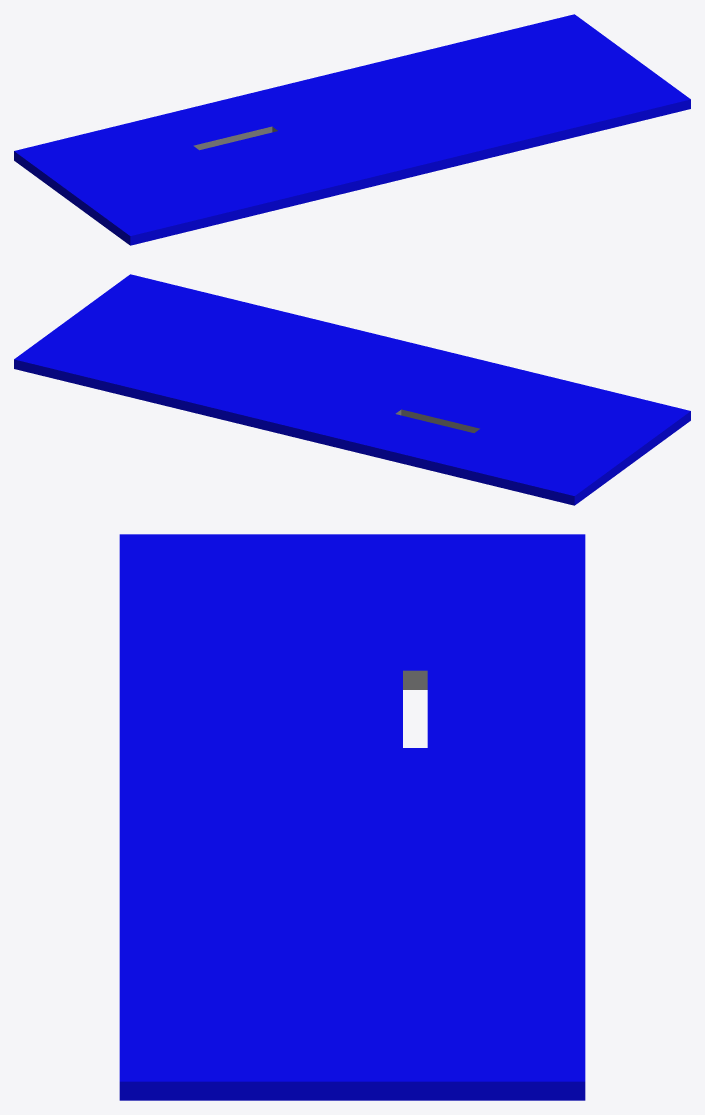
File: Roof02.fbx
The picture shows the model from 3 angles, top to bottom: view 1: azimuth 30°, elevation 25°; view 2: azimuth 150°, elevation 25°; view 3: azimuth 270°, elevation 25°; orthographic projection. The views are drawn at different scales.
Visible parts, largest first — view 1: Roof02; view 2: Roof02; view 3: Roof02.
Boxes of the visible parts, <box> form: Roof02: <box>14,14,690,245</box>; Roof02: <box>14,274,690,505</box>; Roof02: <box>119,534,585,1100</box>.
Size of the model in its own units: 24535 by 400 by 8820.
